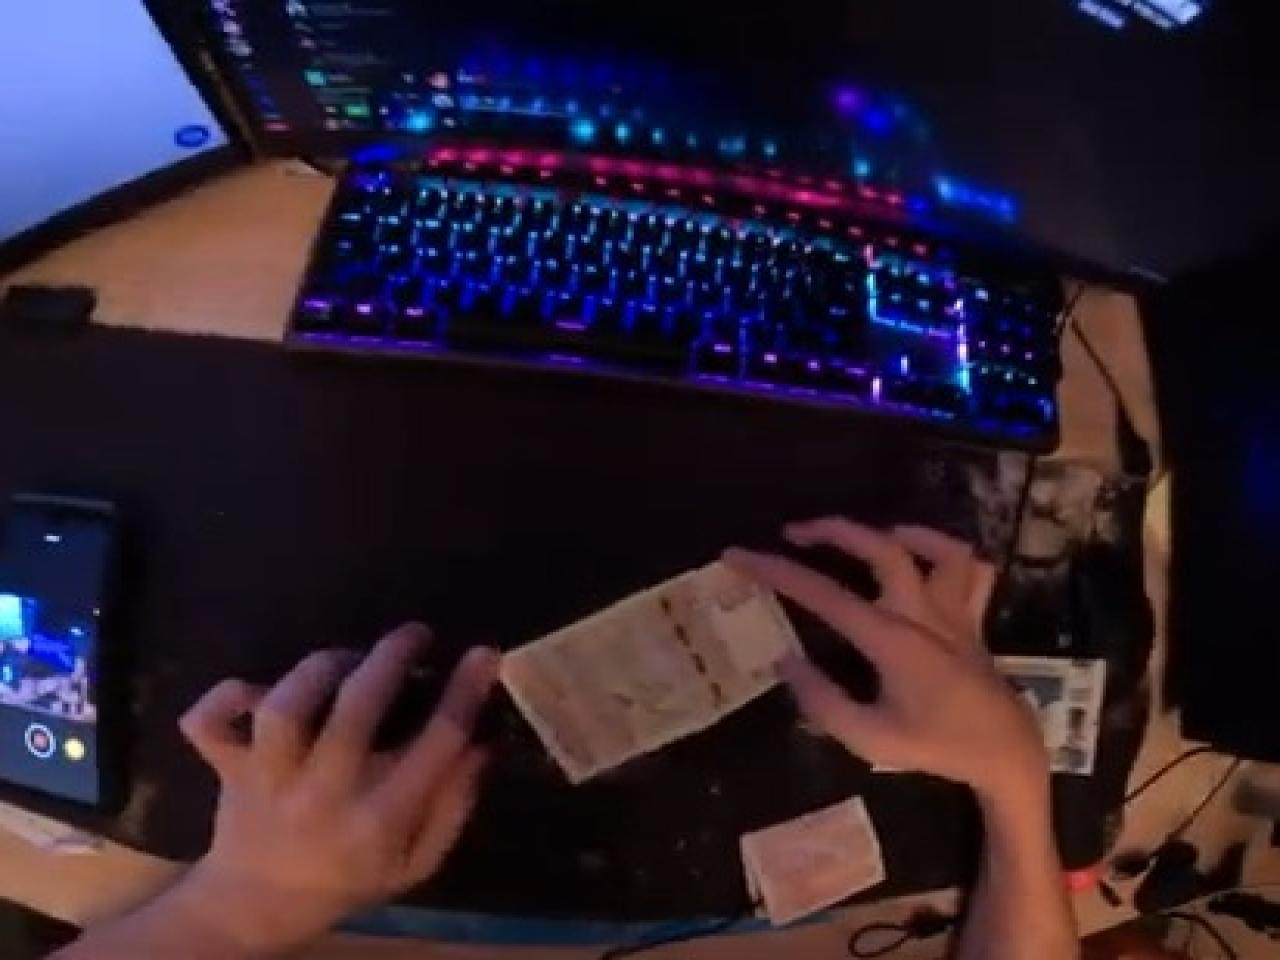50leva: (497, 552, 864, 787)
